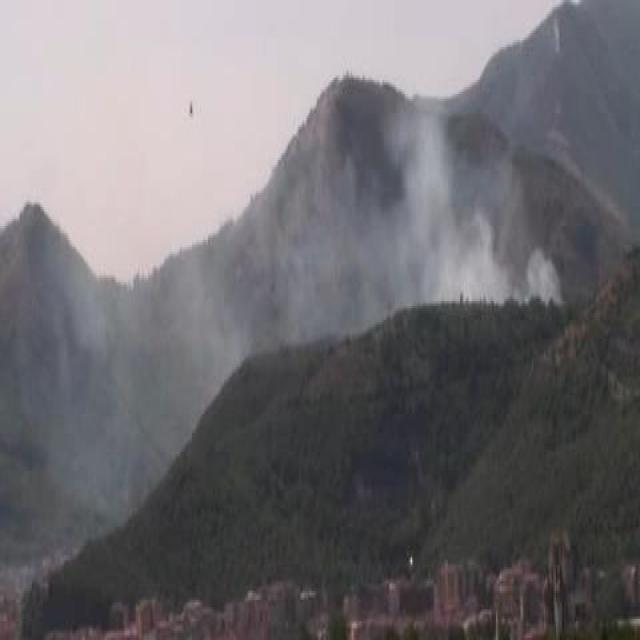Smoke: (333, 93, 556, 305), (55, 236, 236, 390)
